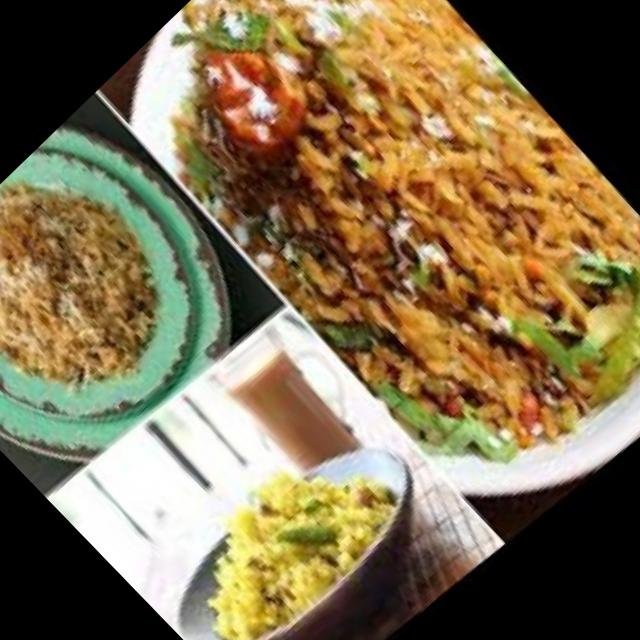poha: (87, 0, 640, 527), (166, 417, 429, 640)
